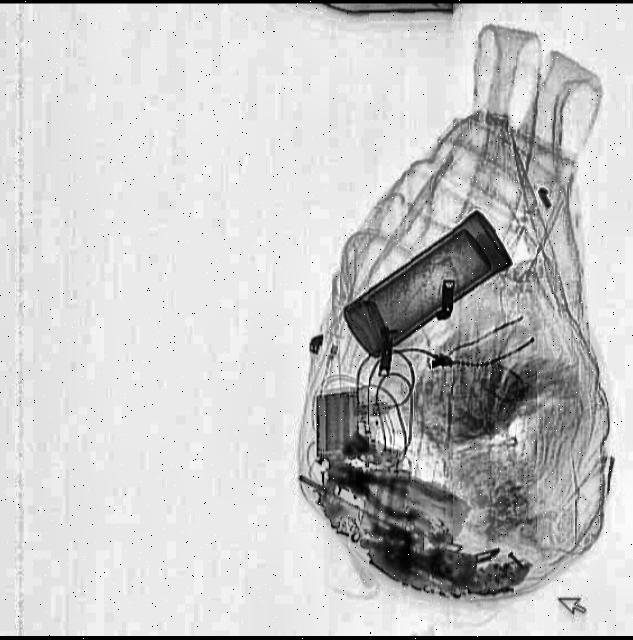Pliers: (322, 449, 426, 528)
